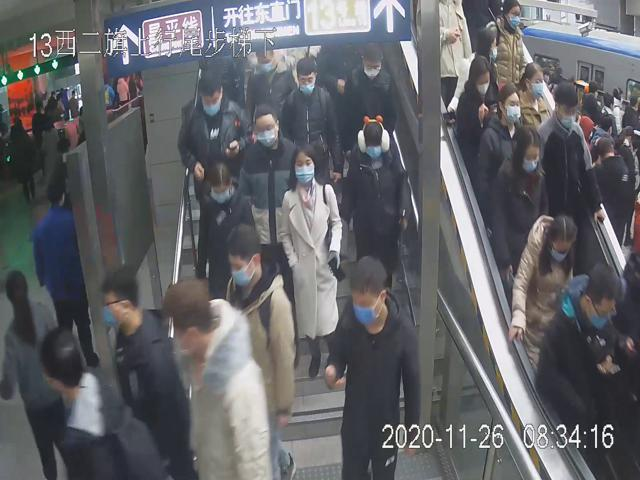person: (324, 253, 423, 480), (224, 226, 301, 480), (279, 143, 345, 380), (234, 101, 303, 252), (172, 62, 255, 186), (487, 122, 551, 277), (277, 55, 347, 187), (474, 80, 535, 230), (194, 158, 257, 301), (335, 42, 397, 148)
